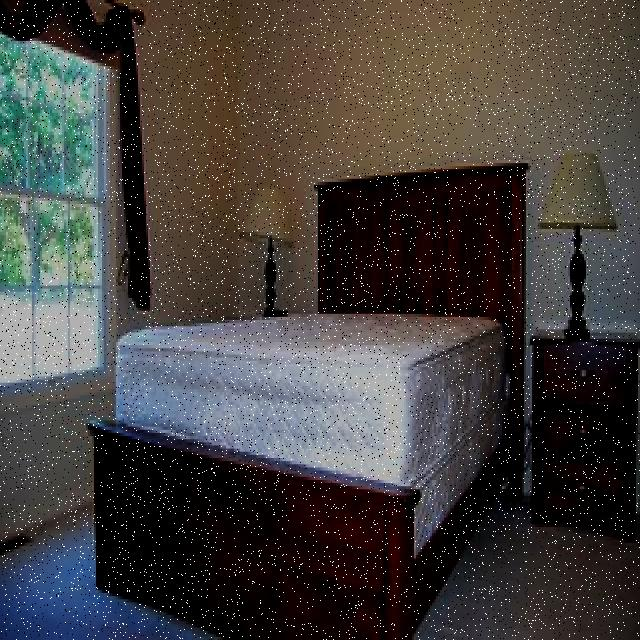bed: (108, 190, 526, 627)
